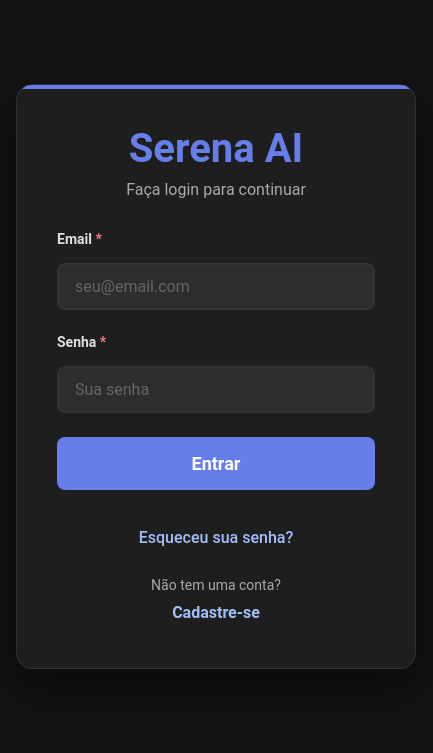
Tela de Login › alterna para o modo de cadastro
The width and height of the screenshot is (433, 753).
Step 1. Click the button "Cadastre-se" → (216, 612), box left=162, top=596, right=270, bottom=628
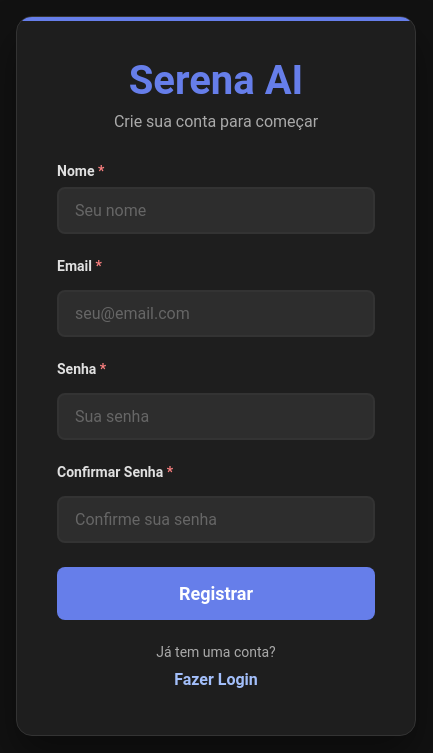
Now the text "Crie sua conta para começar" is shown, box left=114, top=112, right=318, bottom=131
Now the field labelled "Nome *" is shown, box left=57, top=187, right=375, bottom=234
Now the password field labelled "Confirmar Senha *" is shown, box left=57, top=496, right=375, bottom=543
